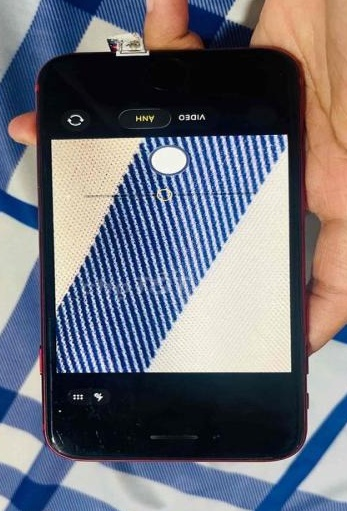scratch: (84, 421, 308, 458), (43, 401, 77, 455)
